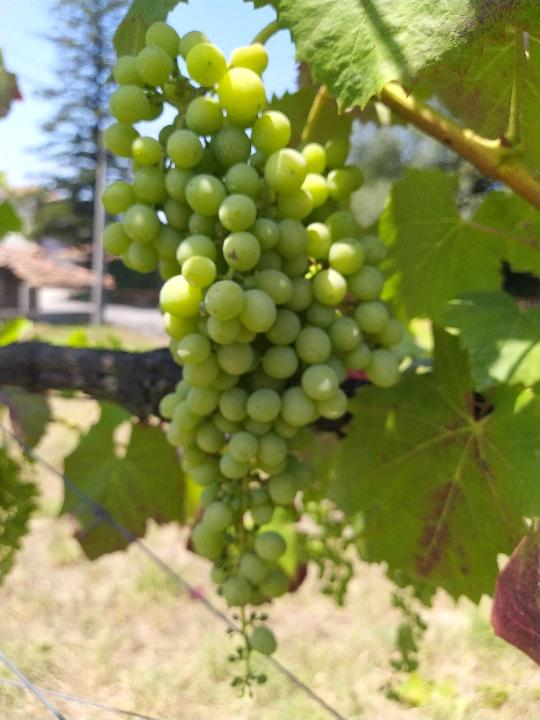grape: (96, 13, 402, 705)
